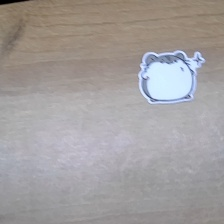mouse: (136, 48, 208, 109)
